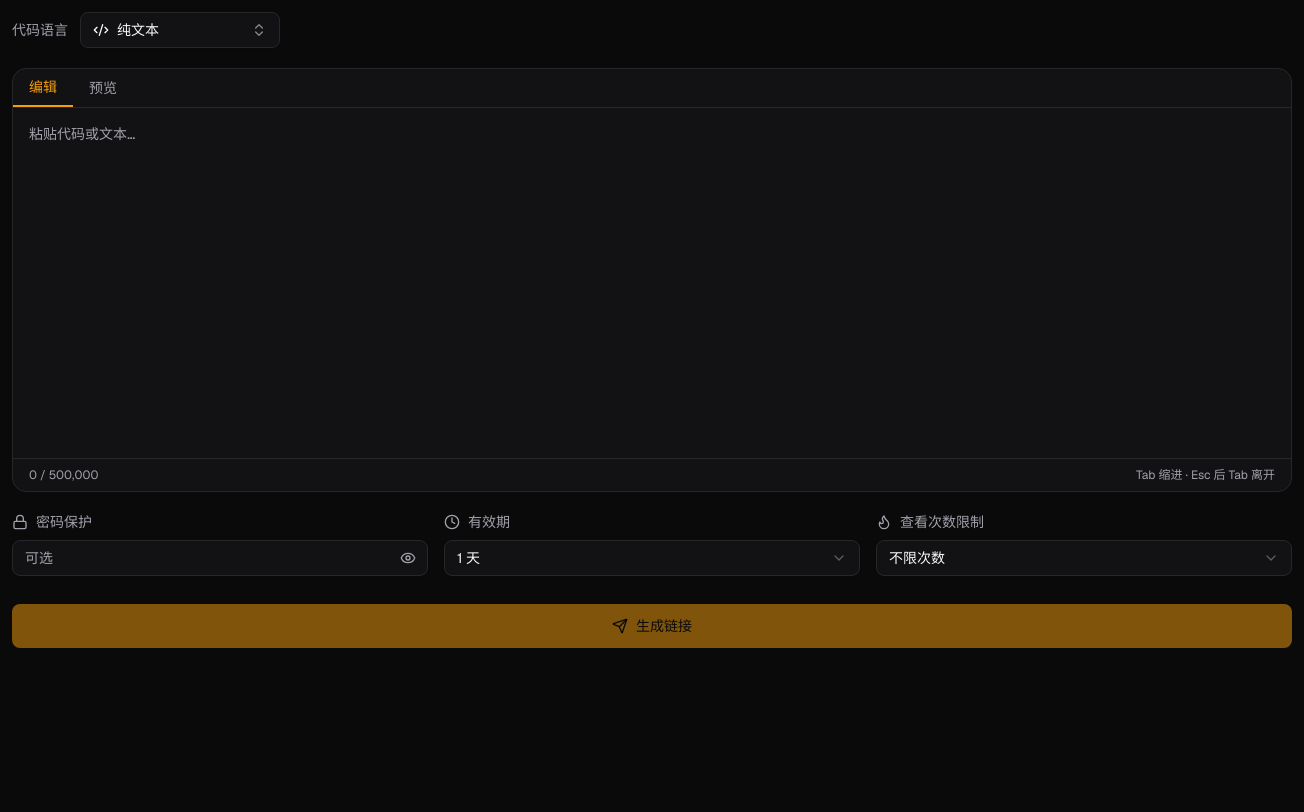
创建内容 › 网络错误可见且能再次提交
The image size is (1304, 812).
Type "保留内容" into the text box named "代码或文本内容" at (652, 283), box [13,108,1291,458]
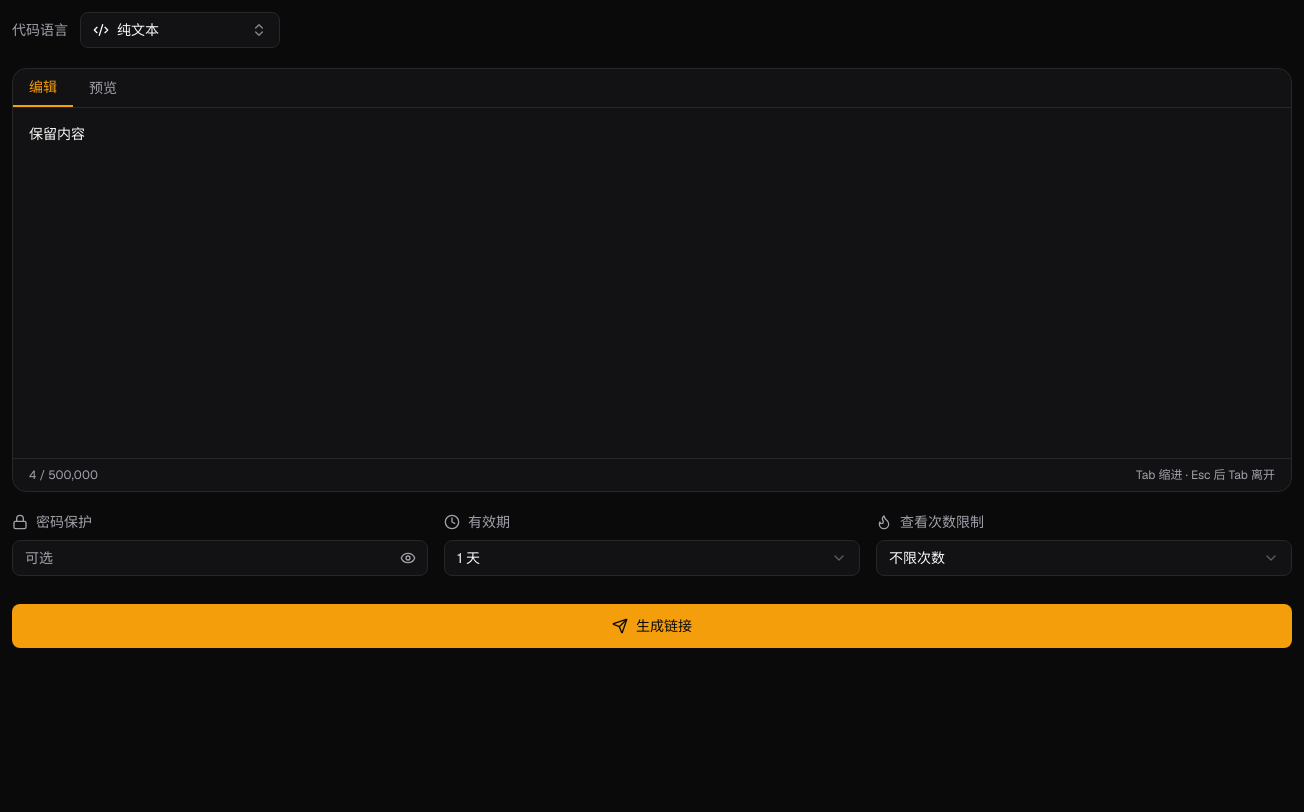
Click the button "生成链接" at (652, 626), box [12,604,1292,648]
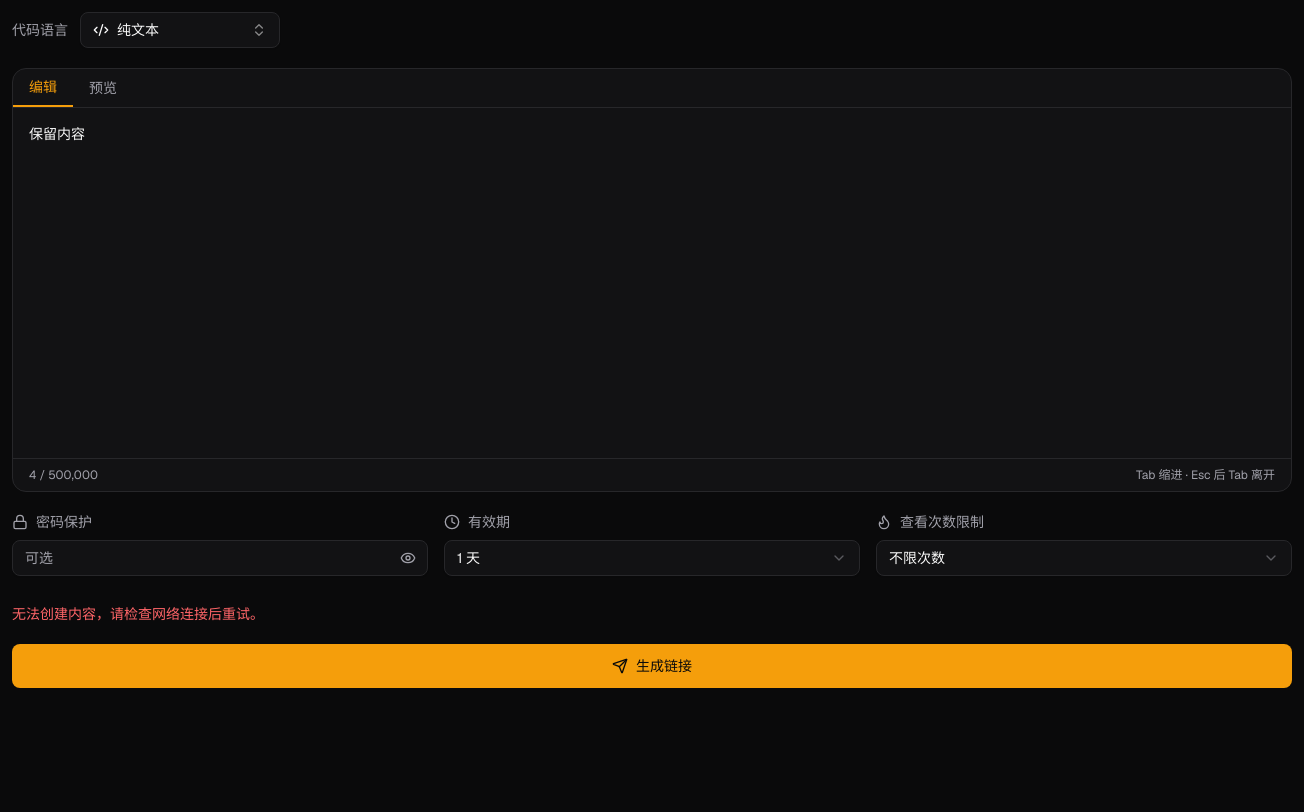
Result: the message shows "检查网络连接" at [12,605,264,623]
